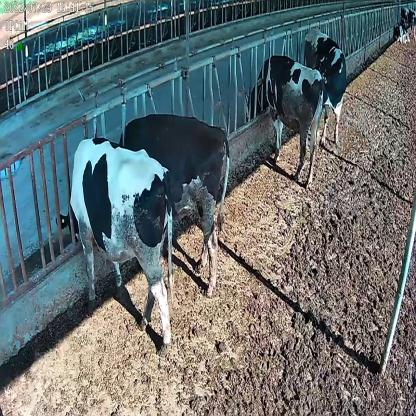cow: (56, 136, 175, 354), (119, 113, 229, 300), (246, 55, 324, 189), (304, 28, 347, 146)
